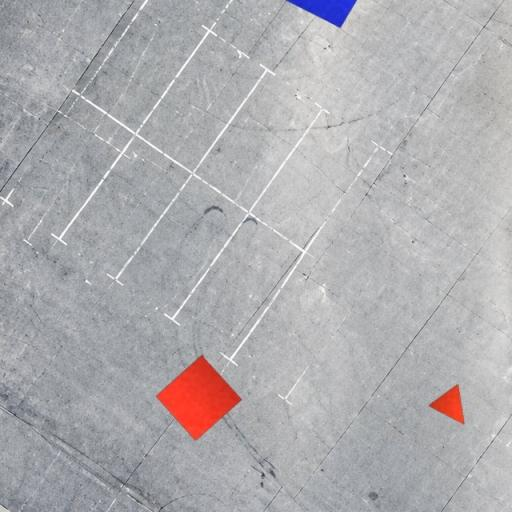RED_SQUARE: (155, 354, 243, 442)
